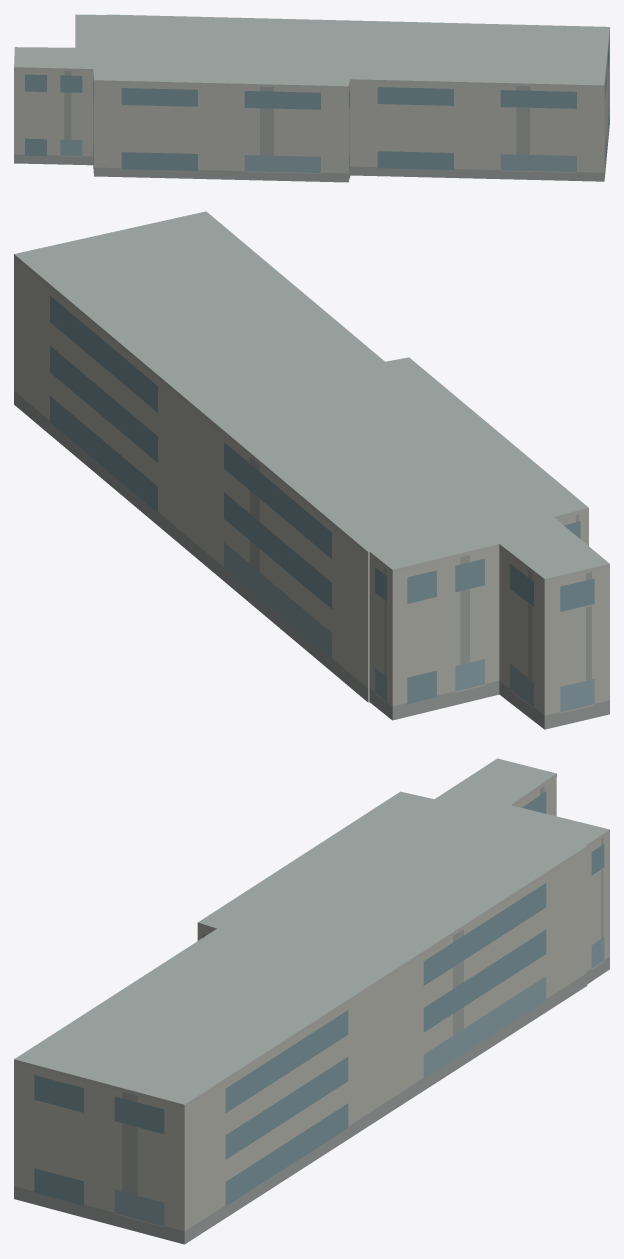
Rendered from survey-upis-32748384.glb.
The picture shows the model from 3 angles, top to bottom: view 1: azimuth 30°, elevation 25°; view 2: azimuth 150°, elevation 25°; view 3: azimuth 270°, elevation 25°; orthographic projection. The views are drawn at different scales.
Parts seen in each view (by area): view 1: survey-upis-32748384.tmp; view 2: survey-upis-32748384.tmp; view 3: survey-upis-32748384.tmp.
Part boxes in pixels (<box>): survey-upis-32748384.tmp: <box>14,14,609,182</box>; survey-upis-32748384.tmp: <box>14,211,609,729</box>; survey-upis-32748384.tmp: <box>14,758,609,1244</box>.
Bounding box in the file's own units: 48.62 × 9.15 × 35.35.
